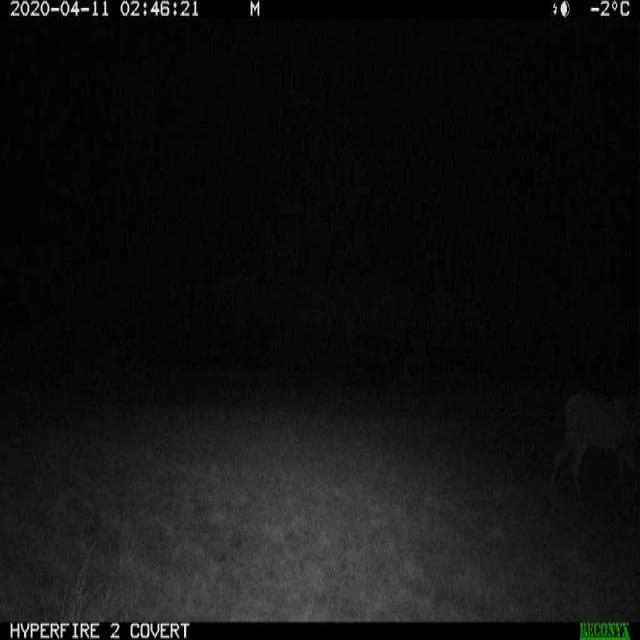deer: (544, 354, 640, 521)
